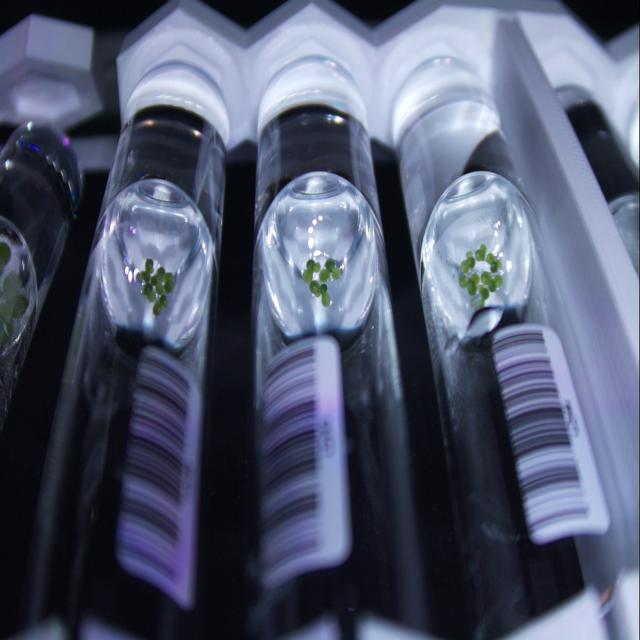Lemna-Gibba: (150, 267, 172, 295), (315, 259, 341, 282), (309, 280, 331, 307), (302, 259, 320, 284), (459, 274, 480, 295), (138, 259, 154, 285), (482, 272, 502, 292), (460, 250, 475, 274), (152, 294, 169, 315), (486, 254, 501, 274), (141, 284, 156, 302), (475, 243, 488, 260), (479, 285, 490, 304)
